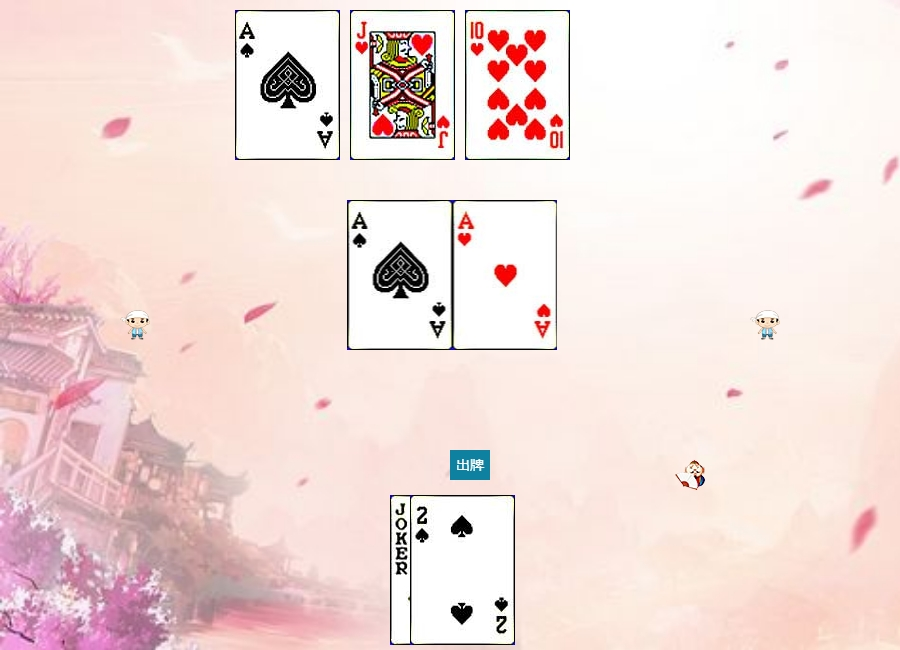10~3: (465, 10, 570, 160)
11~3: (350, 10, 455, 160)
14~3: (453, 200, 558, 350)
14~4: (235, 10, 340, 160), (348, 200, 453, 350)
15~4: (410, 495, 515, 645)
17~3: (390, 495, 495, 645)
